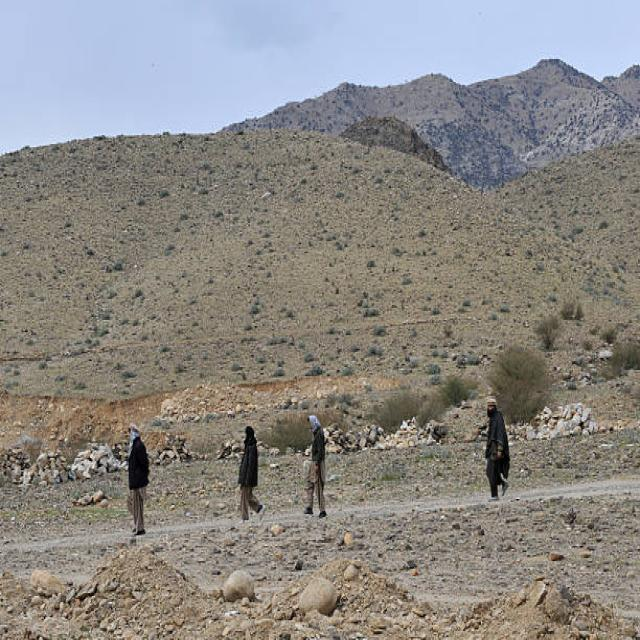civilian: (125, 423, 148, 534), (485, 399, 508, 499), (238, 426, 262, 520), (304, 416, 326, 517)
